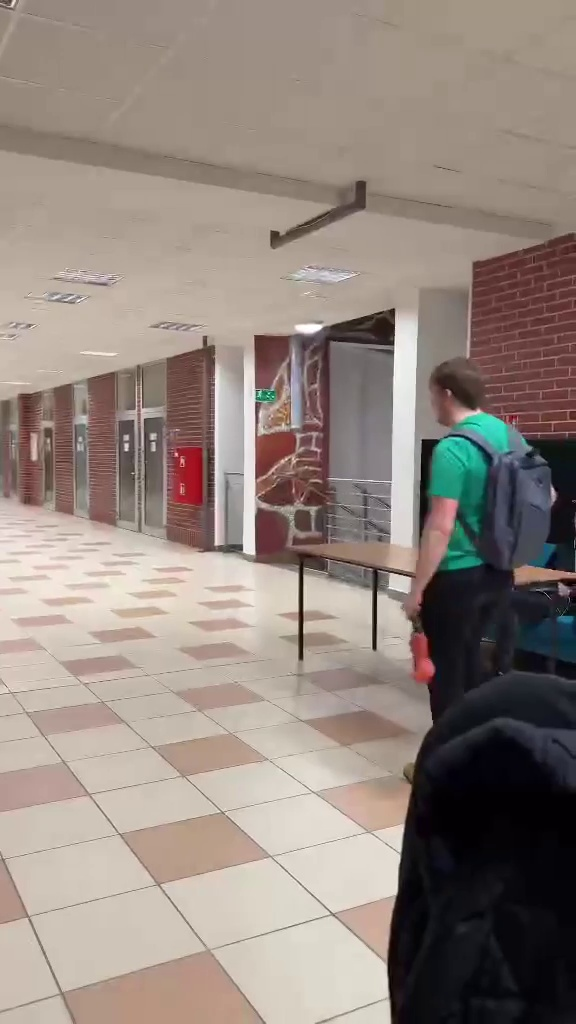no vest: (410, 355, 552, 718)
